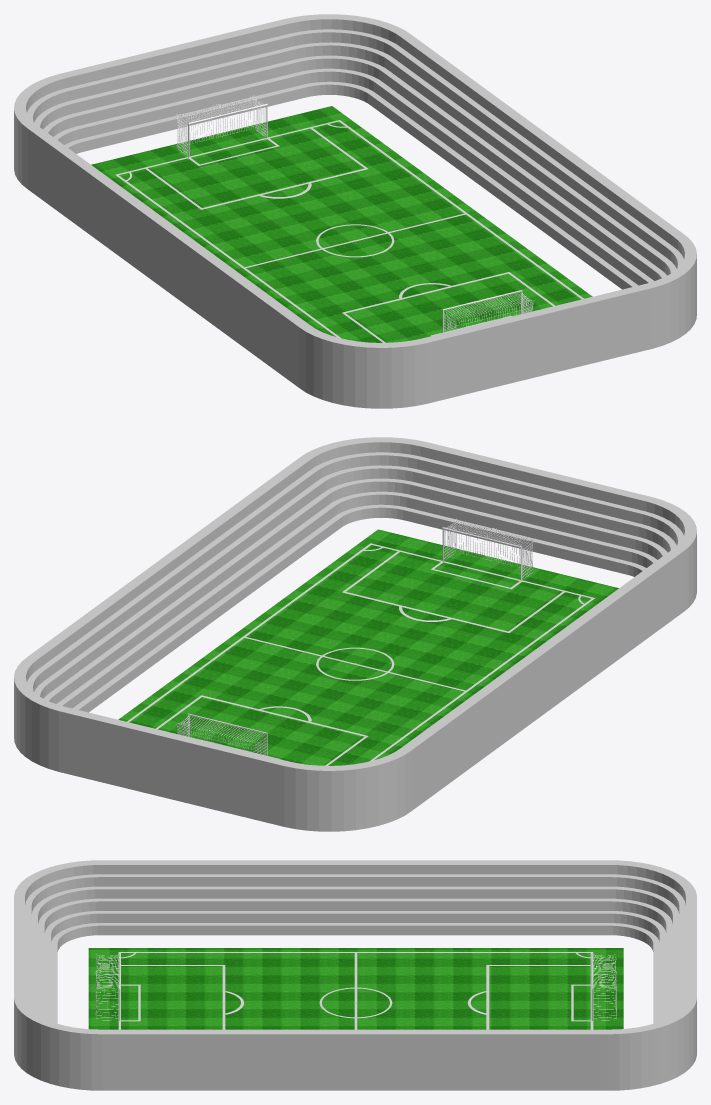
The model's file is Stadium design.fbx.
3 renders of one model, top to bottom at view 1: azimuth 30°, elevation 25°; view 2: azimuth 150°, elevation 25°; view 3: azimuth 270°, elevation 25°, orthographic. The views are drawn at different scales.
Parts seen in each view (by area): view 1: Cube, Plane, Line, Cube.001; view 2: Cube, Plane, Line, Cube.001; view 3: Cube, Plane, Line, Cube.001.
Part boxes in pixels (x1,y1,x2,y2): Cube: (14, 14, 696, 408); Plane: (91, 106, 592, 342); Line: (115, 120, 583, 342); Cube.001: (176, 95, 534, 333); Cube: (14, 437, 696, 831); Plane: (118, 529, 618, 765); Line: (127, 543, 594, 765); Cube.001: (176, 519, 534, 755); Cube: (14, 860, 696, 1090); Plane: (88, 948, 623, 1029); Line: (118, 951, 593, 1029); Cube.001: (95, 953, 616, 1020).
Size of the model in its own units: 63.15 by 9.57 by 105.
3 materials, 1 textured.
